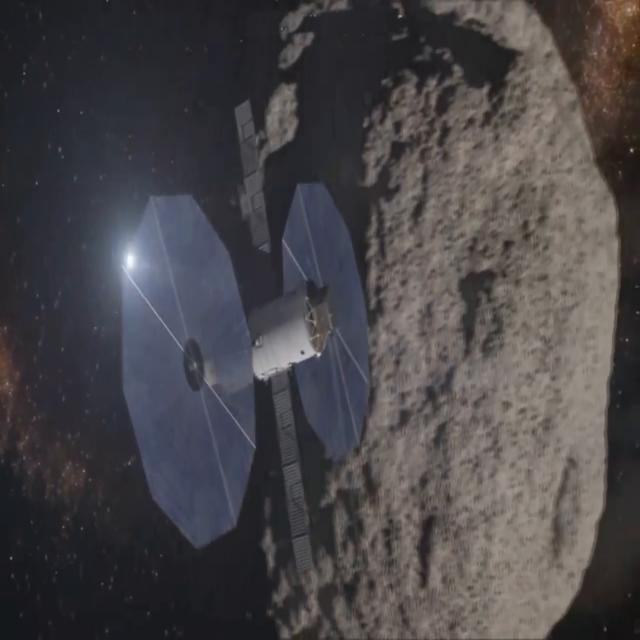medium_debris: (114, 100, 406, 599)
